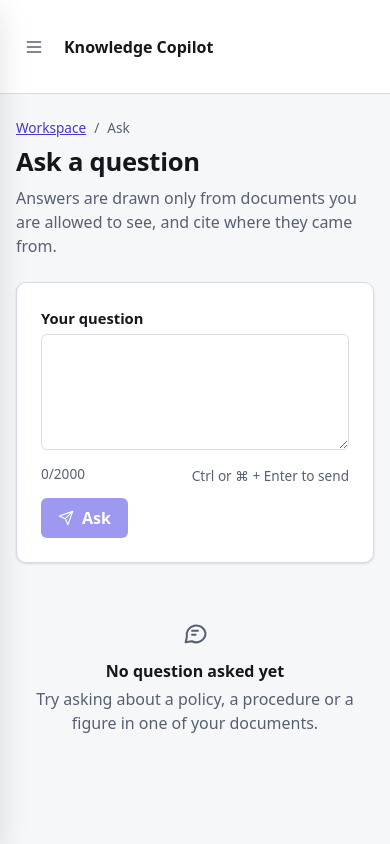
Scenario: app shell › offers a mobile menu that opens, closes with Escape and exposes one main navigation
Click the button named "Open navigation menu" at (34, 46), box [16,28,52,64]
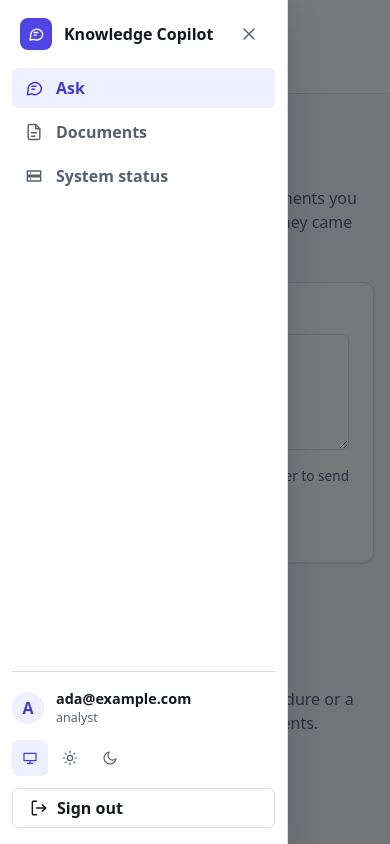
Expected: the number of navigation bars named "Main" is 1, [12,68,275,196]
Result: the button named "Open navigation menu" is expanded at [16,28,52,64]
Press Escape
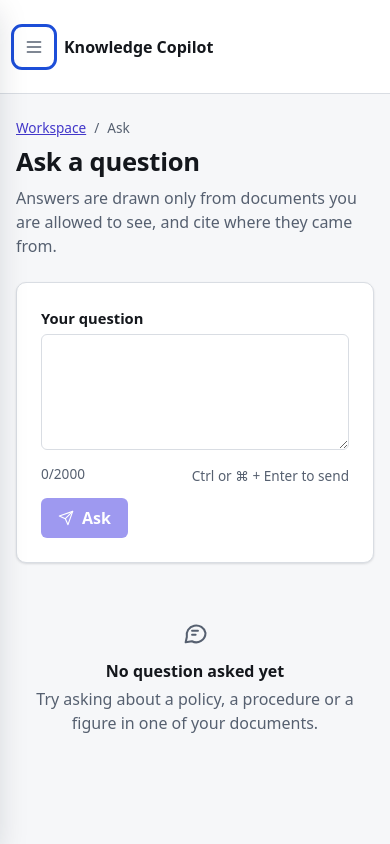
Result: the button named "Open navigation menu" is collapsed at [16,28,52,64]
